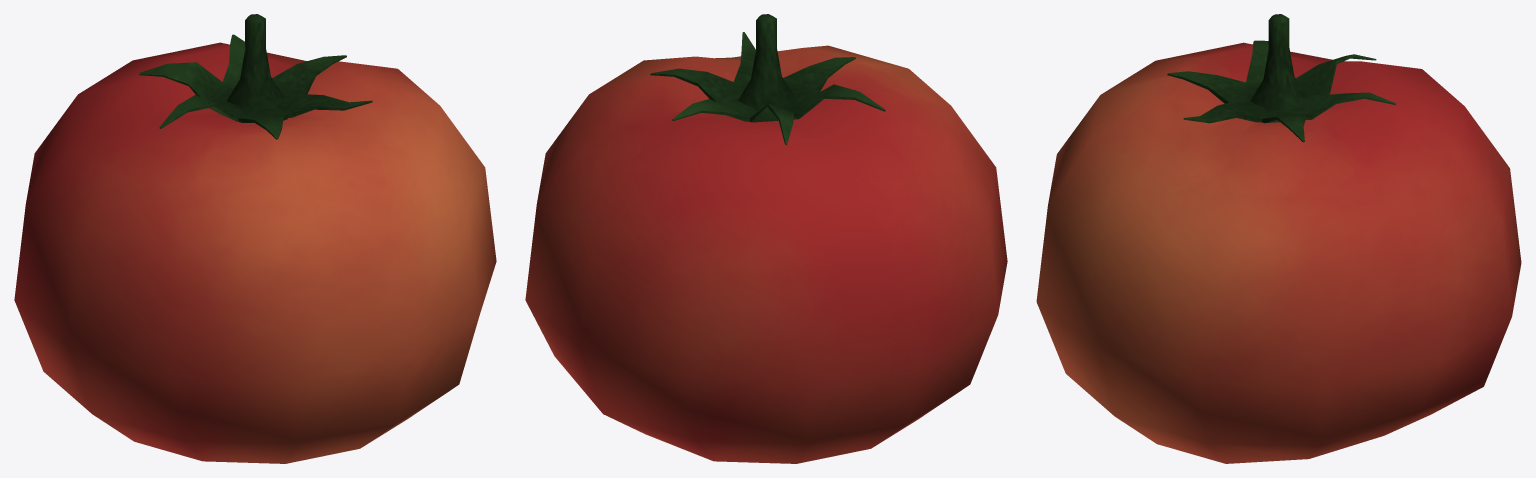
File: Tomato Orange Red.fbx
3 renders of one model, left to right at view 1: azimuth 30°, elevation 25°; view 2: azimuth 150°, elevation 25°; view 3: azimuth 270°, elevation 25°, orthographic.
Parts seen in each view (by area): view 1: Tomato_orange_red; view 2: Tomato_orange_red; view 3: Tomato_orange_red.
Part boxes in pixels (x1,y1,x2,y2): Tomato_orange_red: [14, 14, 496, 463]; Tomato_orange_red: [525, 14, 1007, 463]; Tomato_orange_red: [1036, 14, 1521, 463].
Size of the model in its own units: 193 by 180 by 193.
